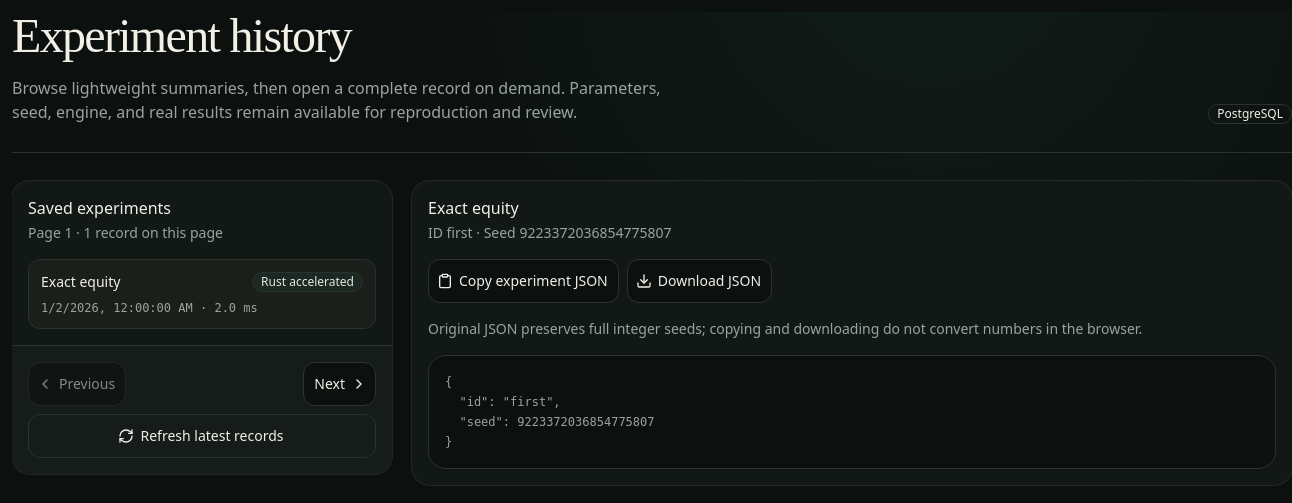
Test: experiment ledger › paginates, resets selection, and refreshes the latest page even when cached
This screenshot has width=1292, height=503.
Expected: the text named "Complete experiment JSON" is shown, [428,355,1276,469]
Expected: the button "Previous" is disabled, [28,362,126,406]
Click the button "Next" at (340, 384), box [303,362,376,406]
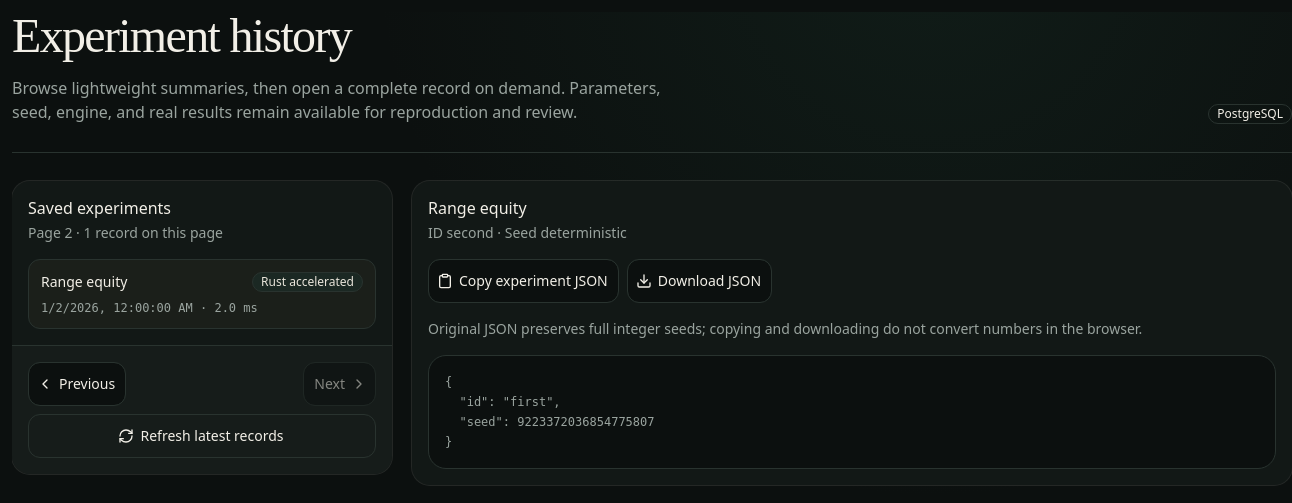
Now the text "Page 2 · 1 record on this page" is shown, box [28,223,223,242]
Now the button "Next" is disabled, box [303,362,376,406]
Click the button "Refresh latest records" at (202, 436), box [28,414,376,458]
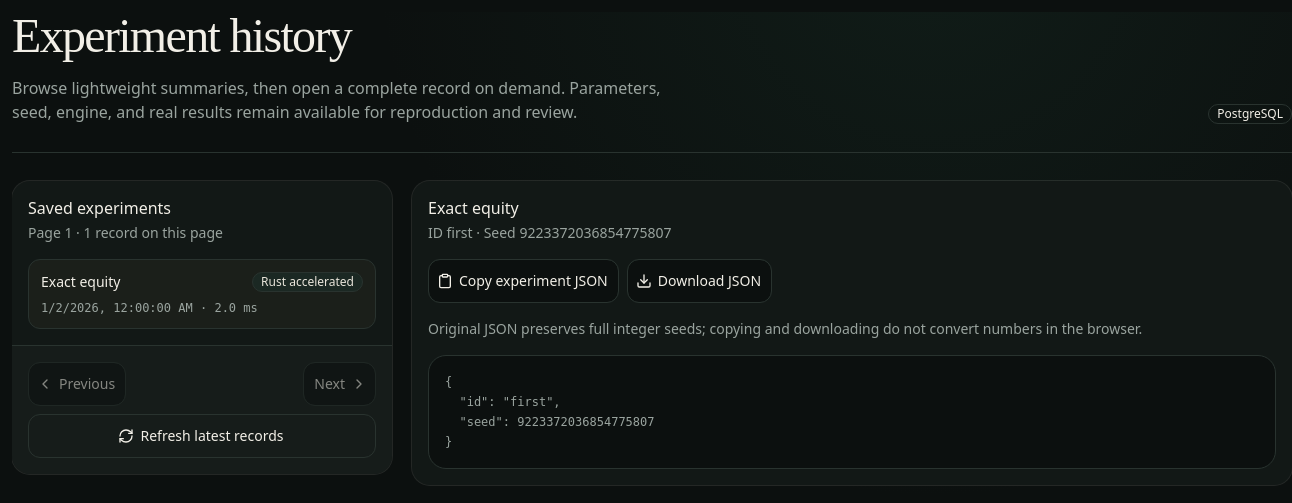
Now the text "Page 1 · 1 record on this page" is shown, box [28,223,223,242]
